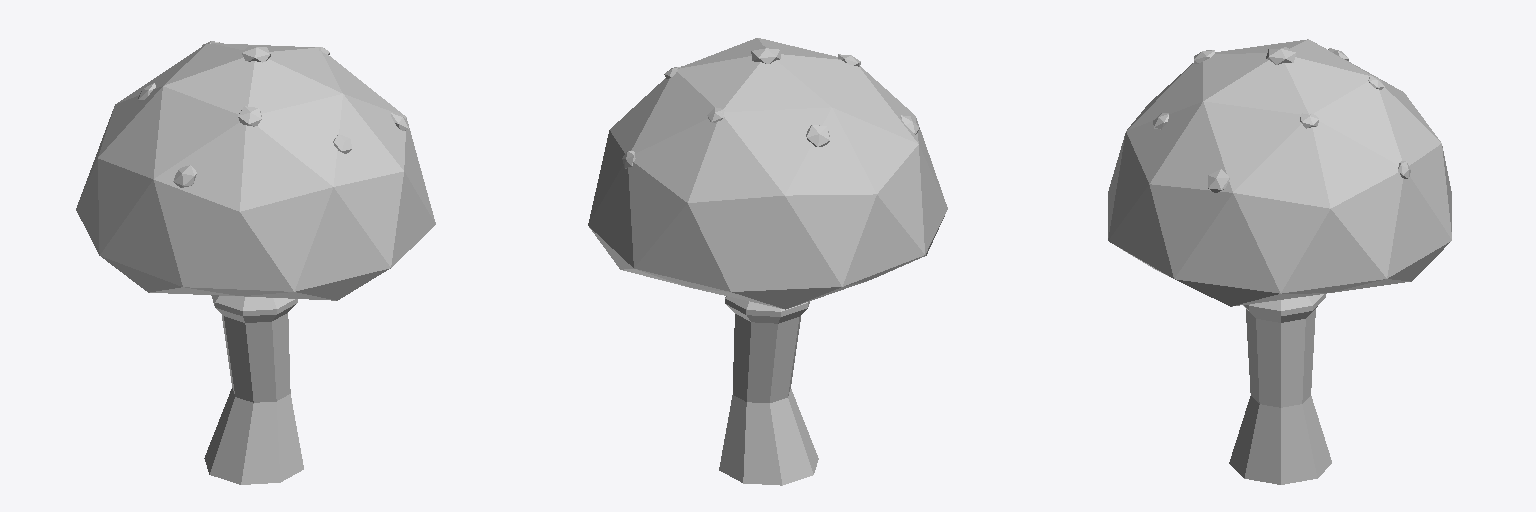
Rendered from mushroom11.obj.
3 views of the same model, side by side, from view 1: azimuth 30°, elevation 25°; view 2: azimuth 150°, elevation 25°; view 3: azimuth 270°, elevation 25° (orthographic).
Visible parts, largest first — view 1: Mushroom5_1_Cylinder.056; view 2: Mushroom5_1_Cylinder.056; view 3: Mushroom5_1_Cylinder.056.
Part boxes in pixels (x1,y1,x2,y2): Mushroom5_1_Cylinder.056: (76, 41, 435, 484); Mushroom5_1_Cylinder.056: (588, 38, 947, 485); Mushroom5_1_Cylinder.056: (1108, 39, 1451, 484).
Bounding box in the file's own units: 0.8647 × 1.1 × 0.8235.